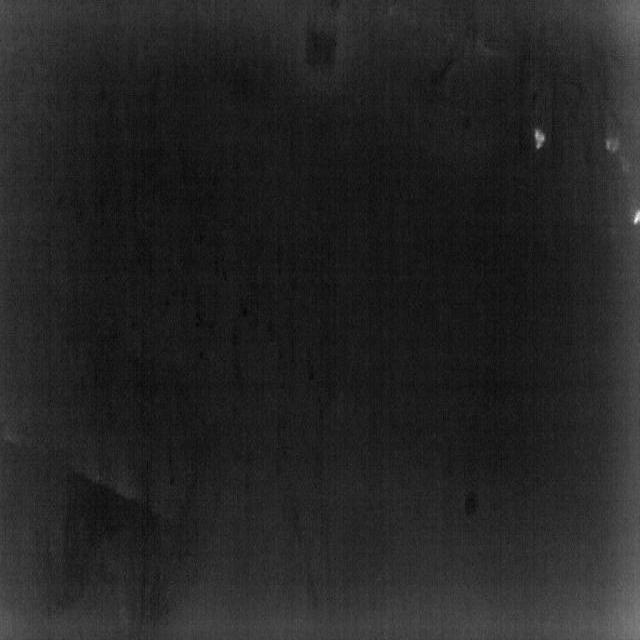deer: (604, 137, 622, 154), (533, 129, 545, 150), (632, 207, 640, 225)
